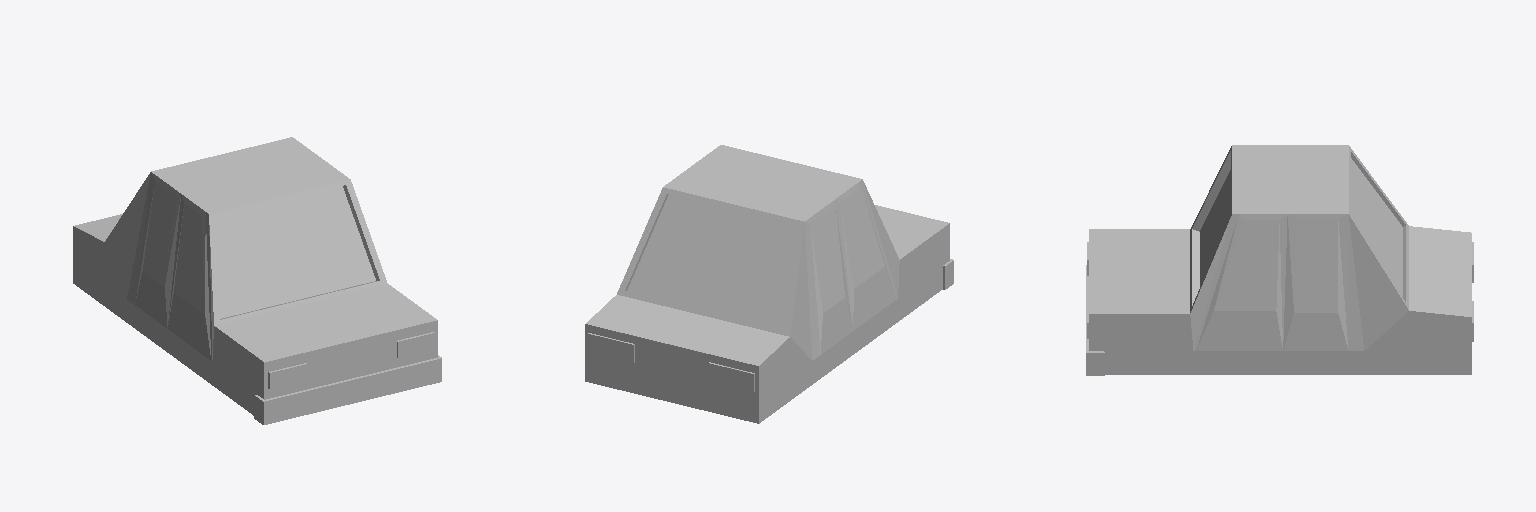
The model's file is Coche.obj.
3 renders of one model, left to right at view 1: azimuth 30°, elevation 25°; view 2: azimuth 150°, elevation 25°; view 3: azimuth 270°, elevation 25°, orthographic.
Parts seen in each view (by area): view 1: Cylinder.003_Cylinder.001; view 2: Cylinder.003_Cylinder.001; view 3: Cylinder.003_Cylinder.001.
Boxes of the visible parts, x1,y1,x2,y2 form: Cylinder.003_Cylinder.001: [73, 137, 441, 424]; Cylinder.003_Cylinder.001: [585, 145, 953, 423]; Cylinder.003_Cylinder.001: [1086, 145, 1473, 375].
Size of the model in its own units: 1.98 by 1.62 by 3.73.